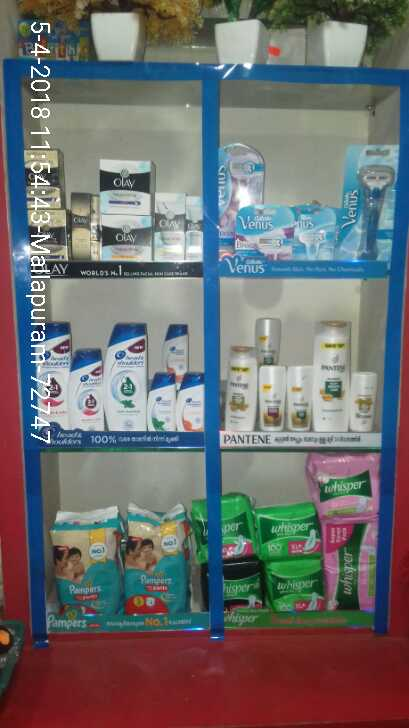venus: (343, 142, 393, 261), (237, 205, 291, 258), (218, 143, 263, 205), (291, 206, 331, 258)
